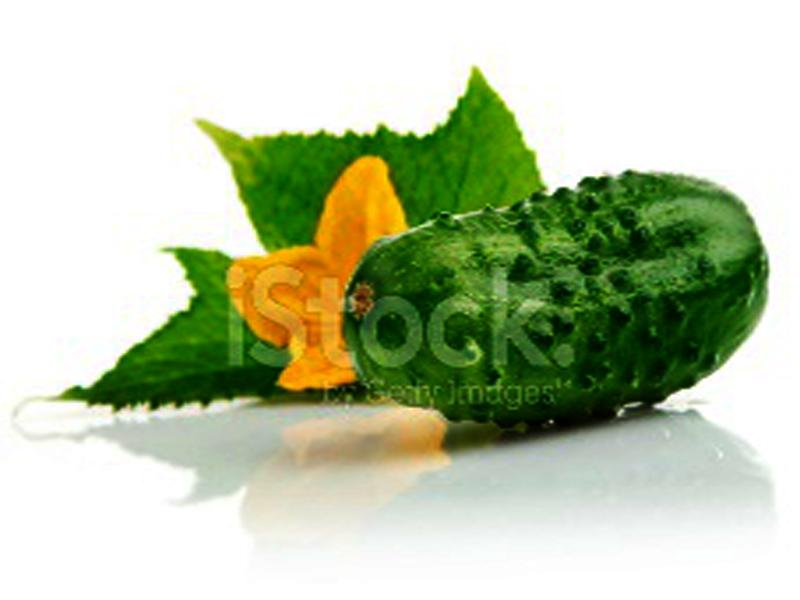Cucumber: (349, 172, 768, 423)
